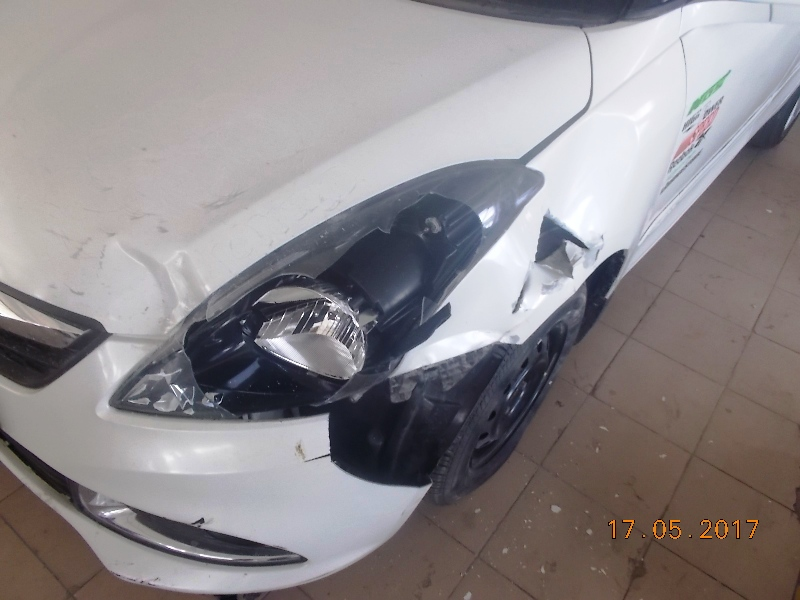Dent: (114, 236, 195, 309)
Tear: (301, 413, 400, 521), (532, 210, 603, 281)
